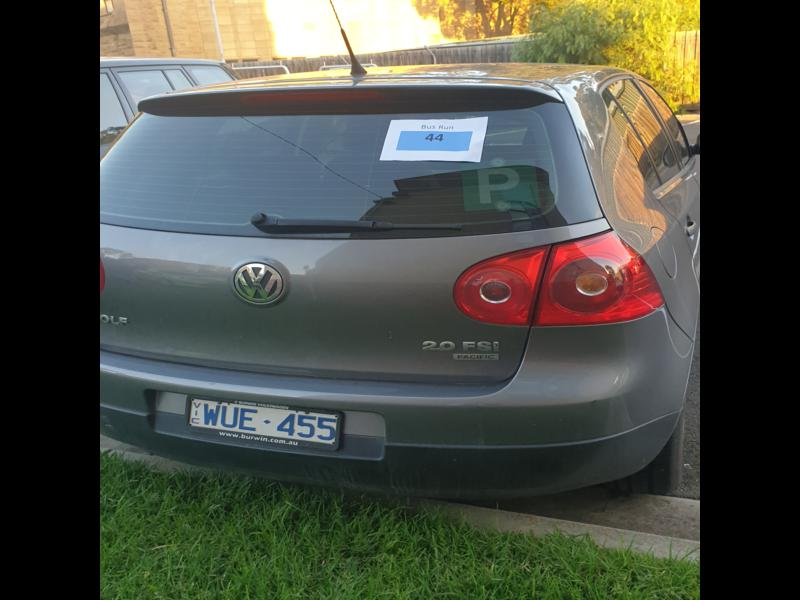BusRun: (397, 130, 472, 150)
PlateNo: (188, 399, 339, 445)
